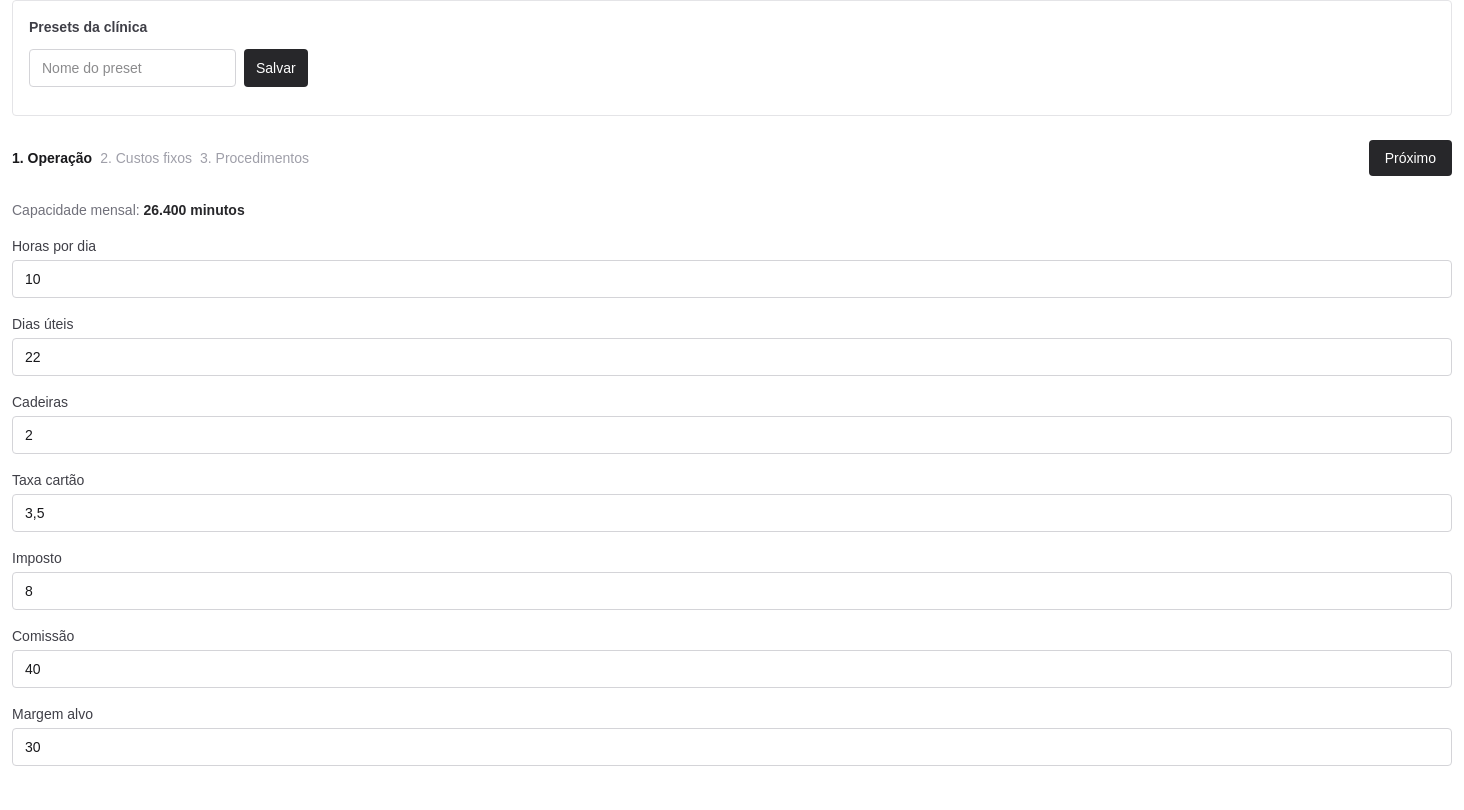
LucreWizard › preserves entered values when navigating back with Voltar
Replace the text in the field labelled "Cadeiras" with "3": x=732, y=435 [12,416,1452,454]
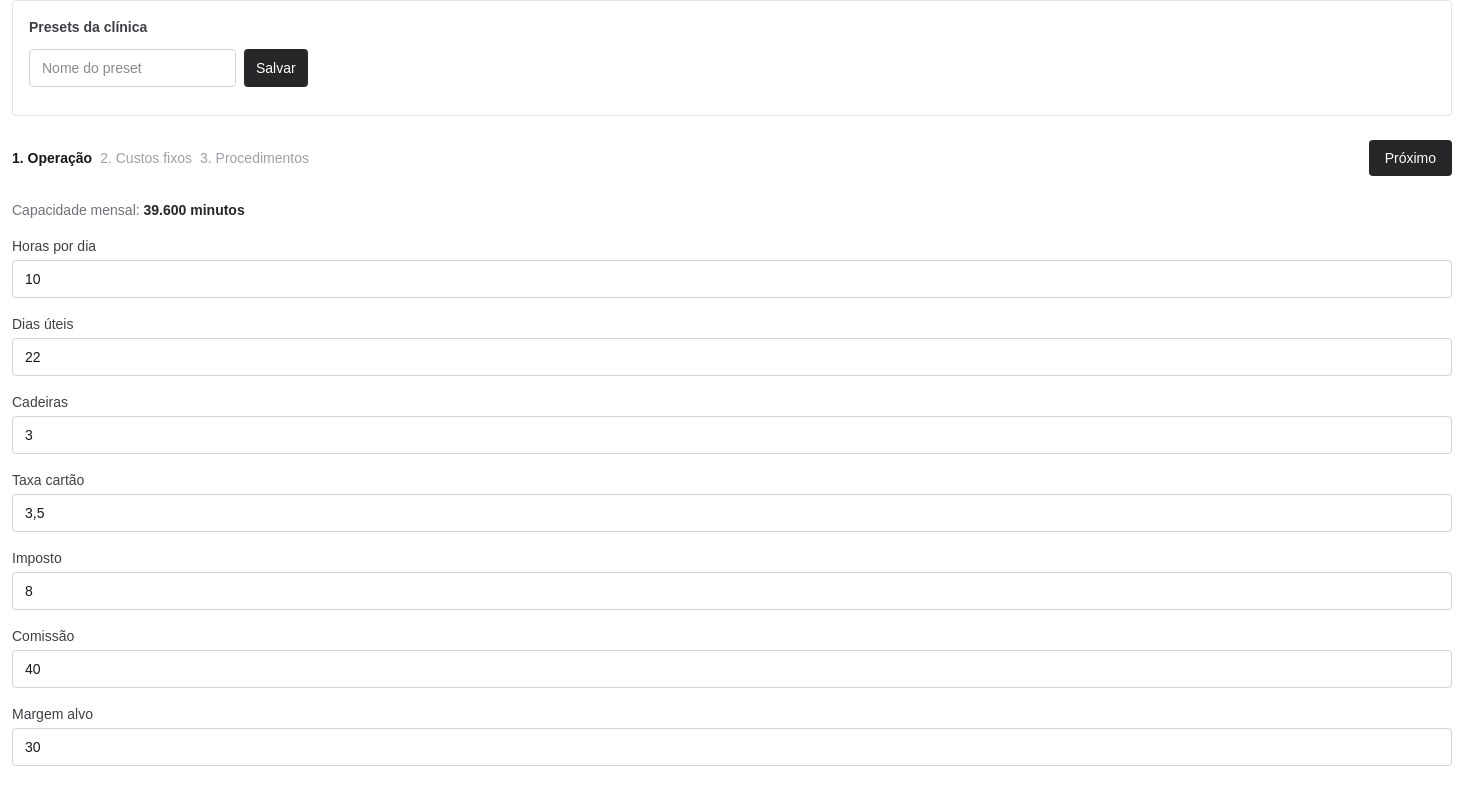
Click the button "Próximo": x=1410, y=158 [1369,140,1452,176]
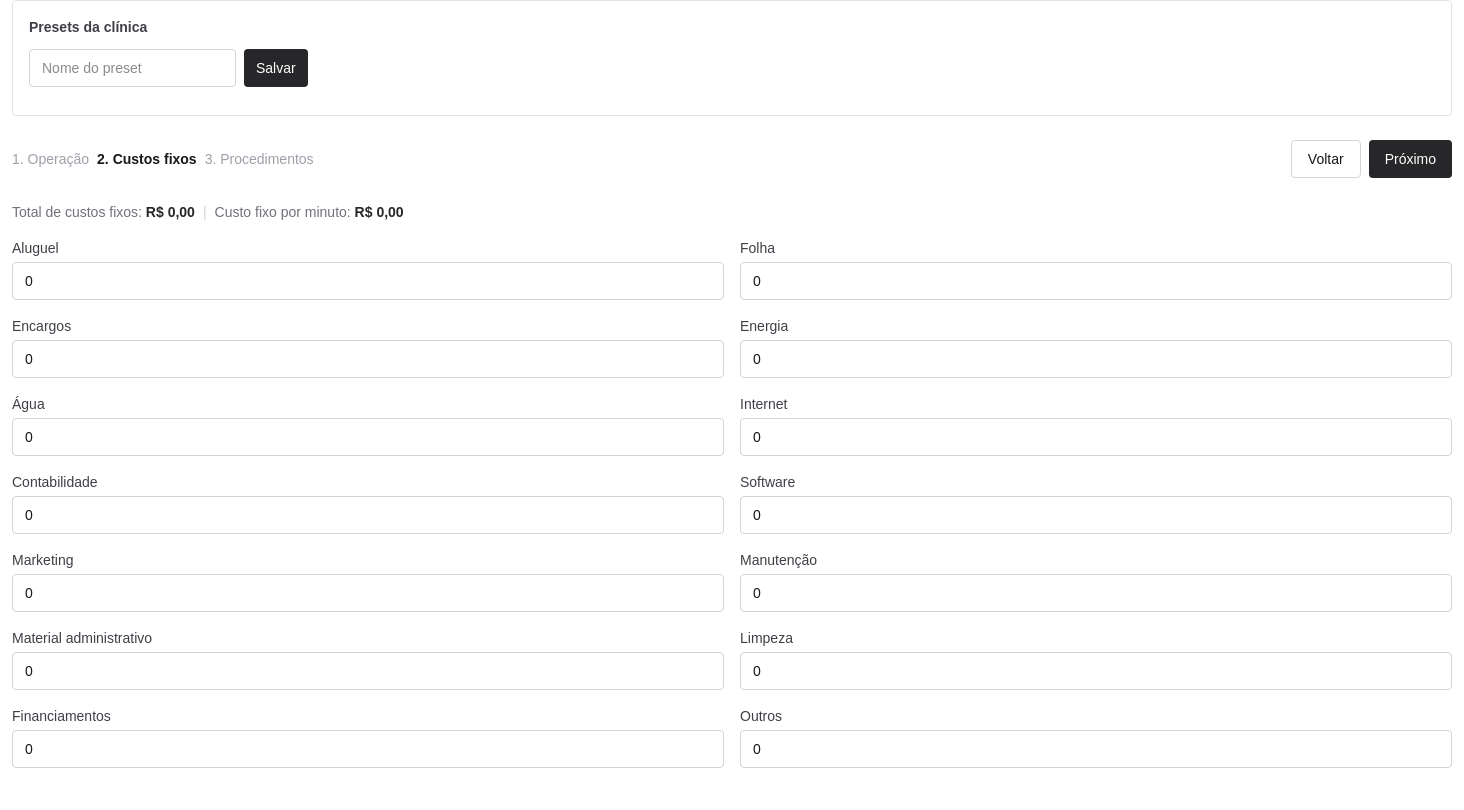
Check: the field labelled "Aluguel" is shown, box [12,262,724,300]
Click the button "Voltar": x=1326, y=159 [1291,140,1361,178]
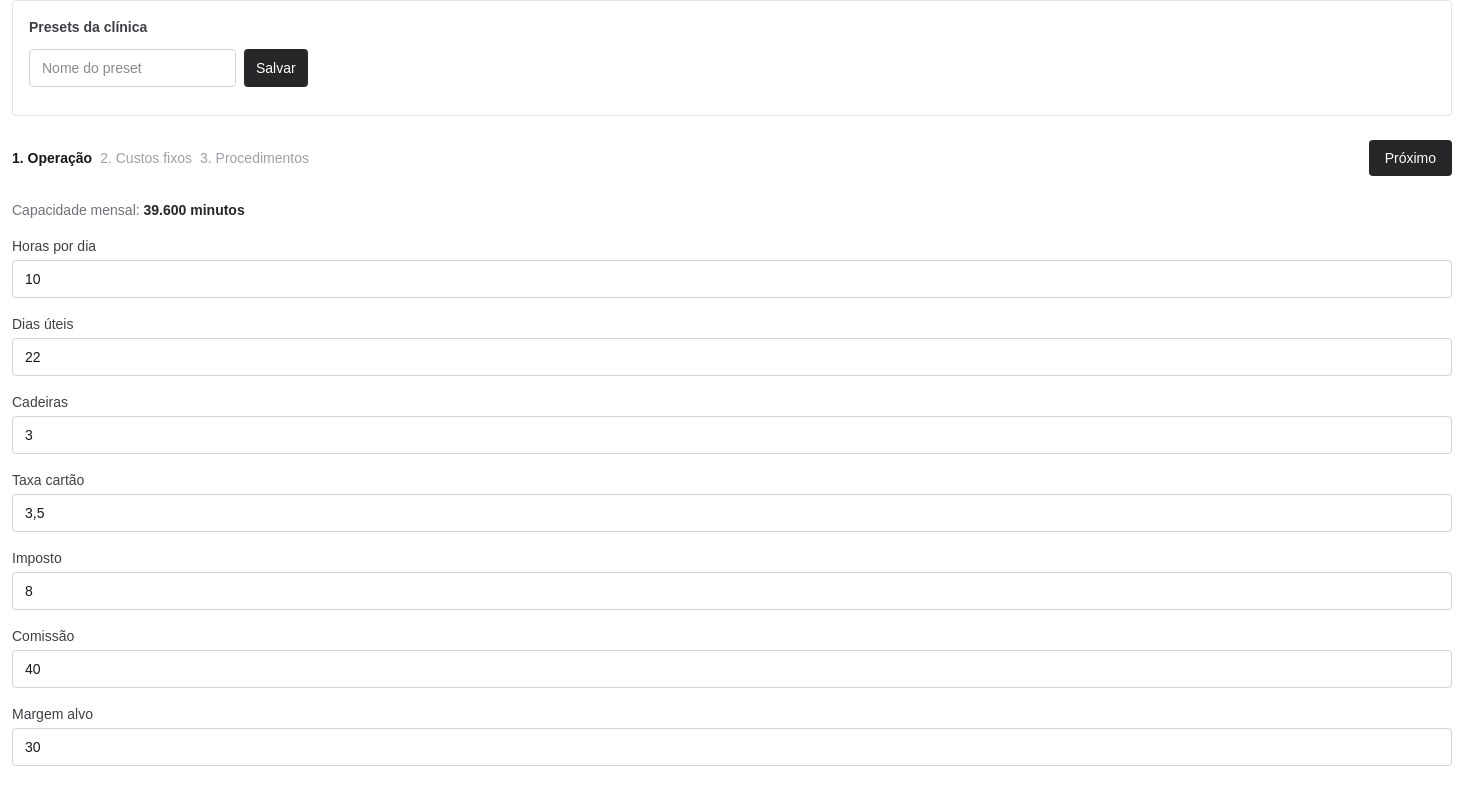
Check: the field labelled "Cadeiras" holds "3", box [12,416,1452,454]
